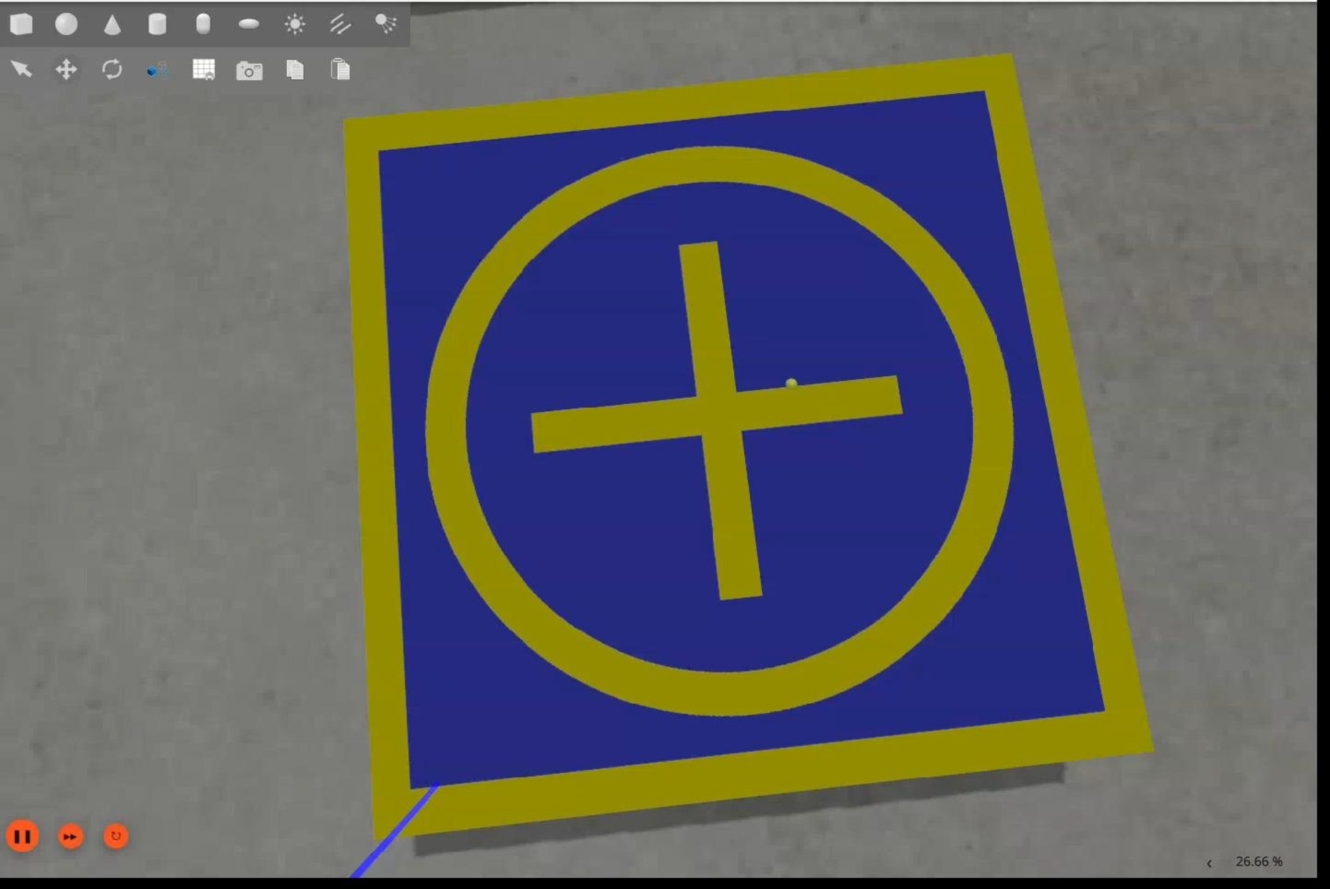small_base: (344, 58, 1161, 849)
